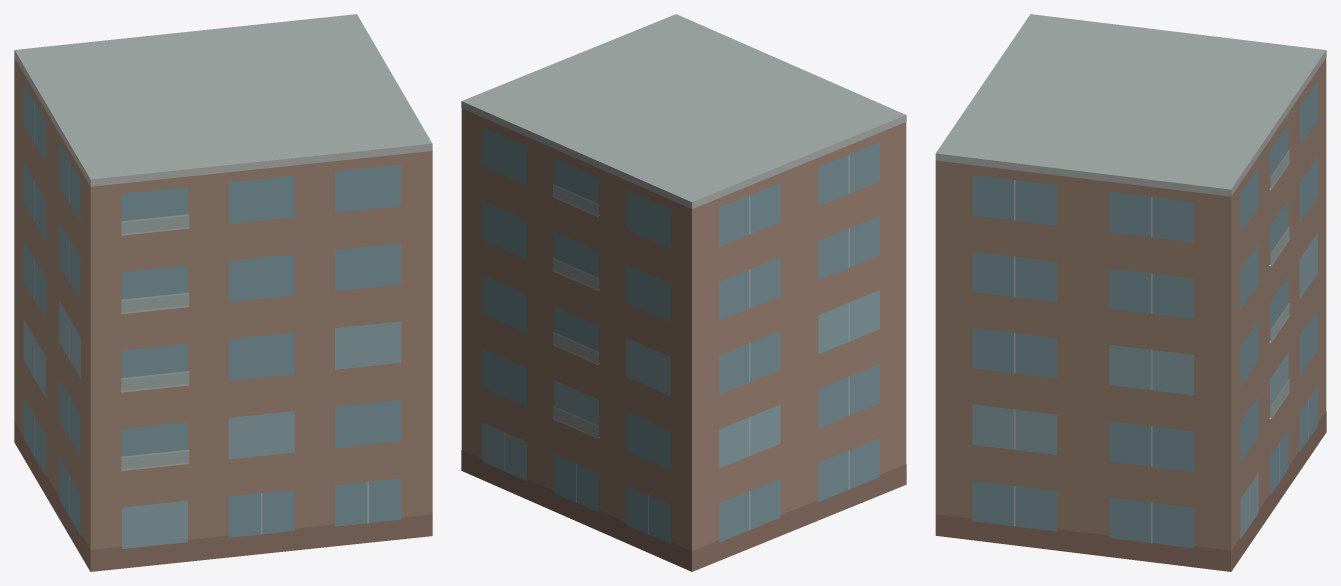
The model's file is survey-upis-32952473.glb.
3 views of the same model, side by side, from view 1: azimuth 30°, elevation 25°; view 2: azimuth 150°, elevation 25°; view 3: azimuth 270°, elevation 25° (orthographic). The views are drawn at different scales.
Visible parts, largest first — view 1: survey-upis-32952473.tmp; view 2: survey-upis-32952473.tmp; view 3: survey-upis-32952473.tmp.
Boxes of the visible parts, x1,y1,x2,y2 form: survey-upis-32952473.tmp: (14, 14, 432, 571); survey-upis-32952473.tmp: (461, 14, 906, 571); survey-upis-32952473.tmp: (935, 14, 1326, 571).
Bounding box in the file's own units: 13.02 × 13.2 × 12.24.
